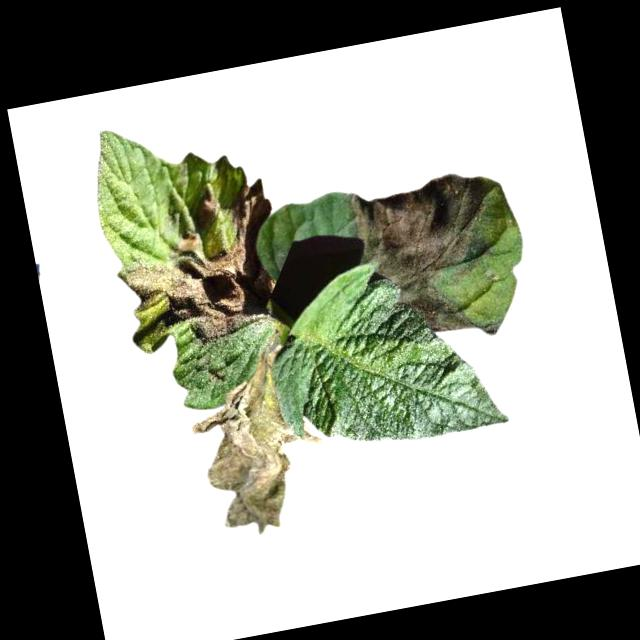Late_blight: (178, 342, 339, 544), (347, 163, 524, 345), (118, 244, 260, 358), (225, 177, 288, 310), (191, 191, 221, 226), (172, 230, 199, 255)
